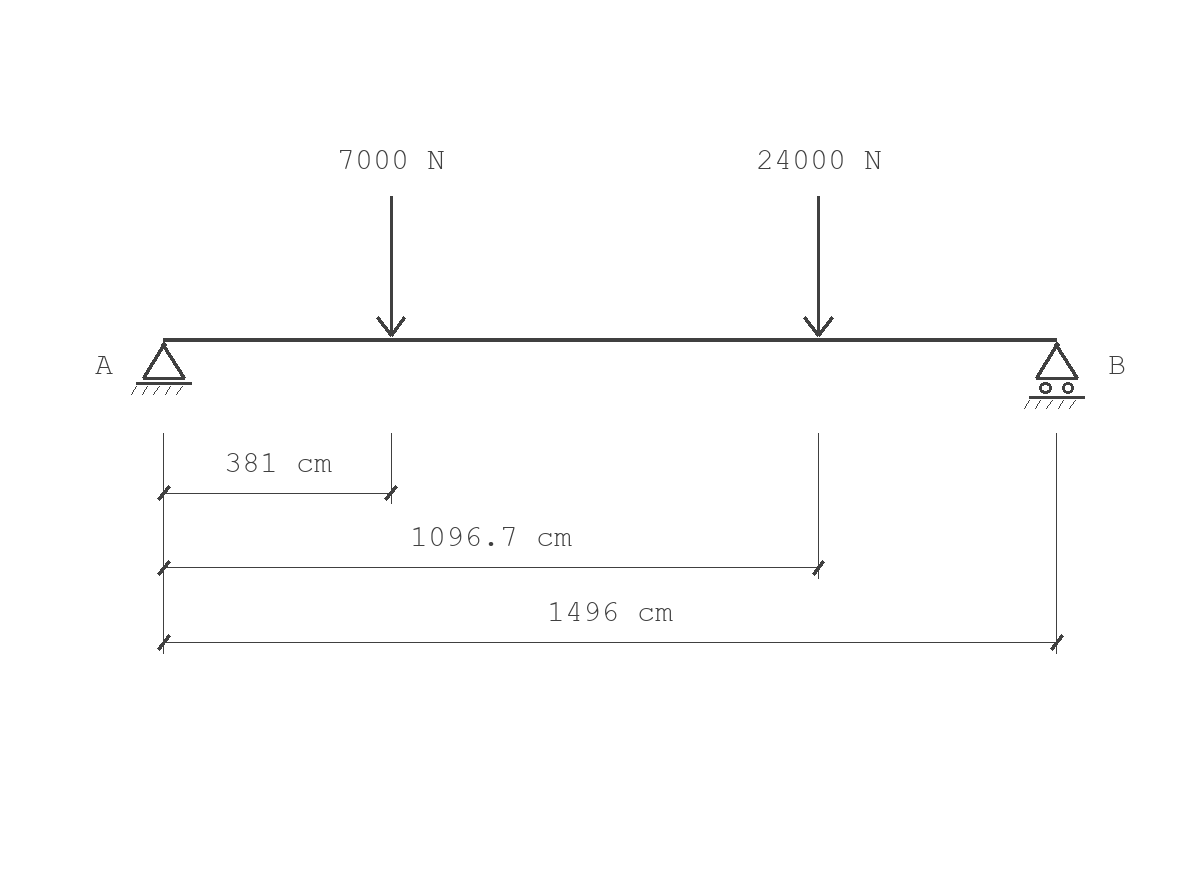pin_support: (131, 342, 192, 395)
point_load: (803, 196, 834, 337), (376, 196, 406, 337)
roller_support: (1024, 342, 1085, 409)
